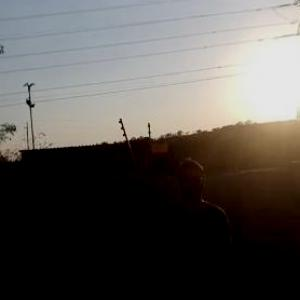follow: (152, 146, 236, 299)
